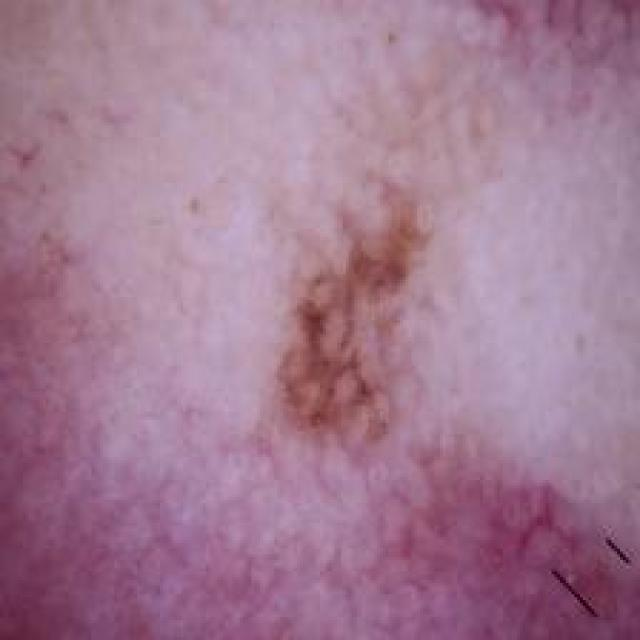Cancer: (260, 150, 430, 480)
